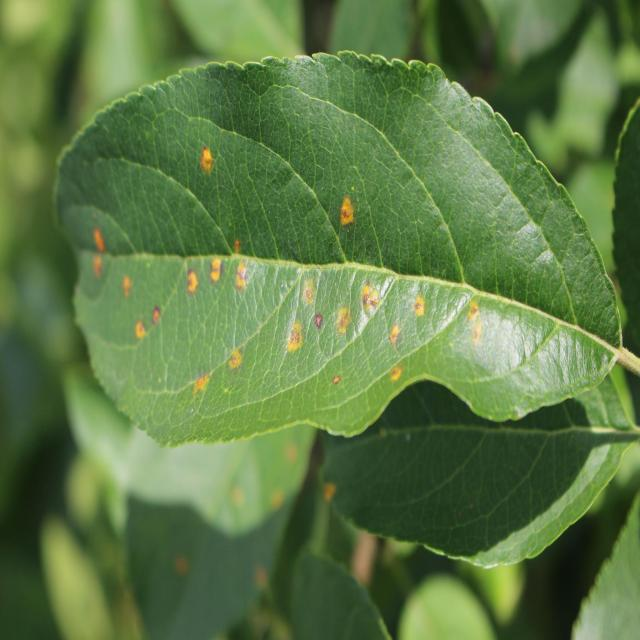Rust: (182, 366, 226, 407), (331, 182, 366, 230), (196, 130, 223, 185), (208, 250, 230, 302), (358, 278, 381, 327), (232, 250, 254, 300), (128, 309, 151, 349), (85, 215, 111, 250), (217, 350, 251, 376), (284, 314, 304, 357), (183, 261, 202, 303), (297, 269, 317, 308), (386, 314, 406, 352), (457, 294, 483, 322), (467, 316, 488, 350), (411, 291, 432, 324), (118, 270, 134, 311), (88, 249, 109, 278), (306, 308, 330, 333), (147, 299, 170, 325), (336, 305, 352, 339), (386, 363, 408, 384), (230, 226, 244, 256), (333, 370, 346, 394)
